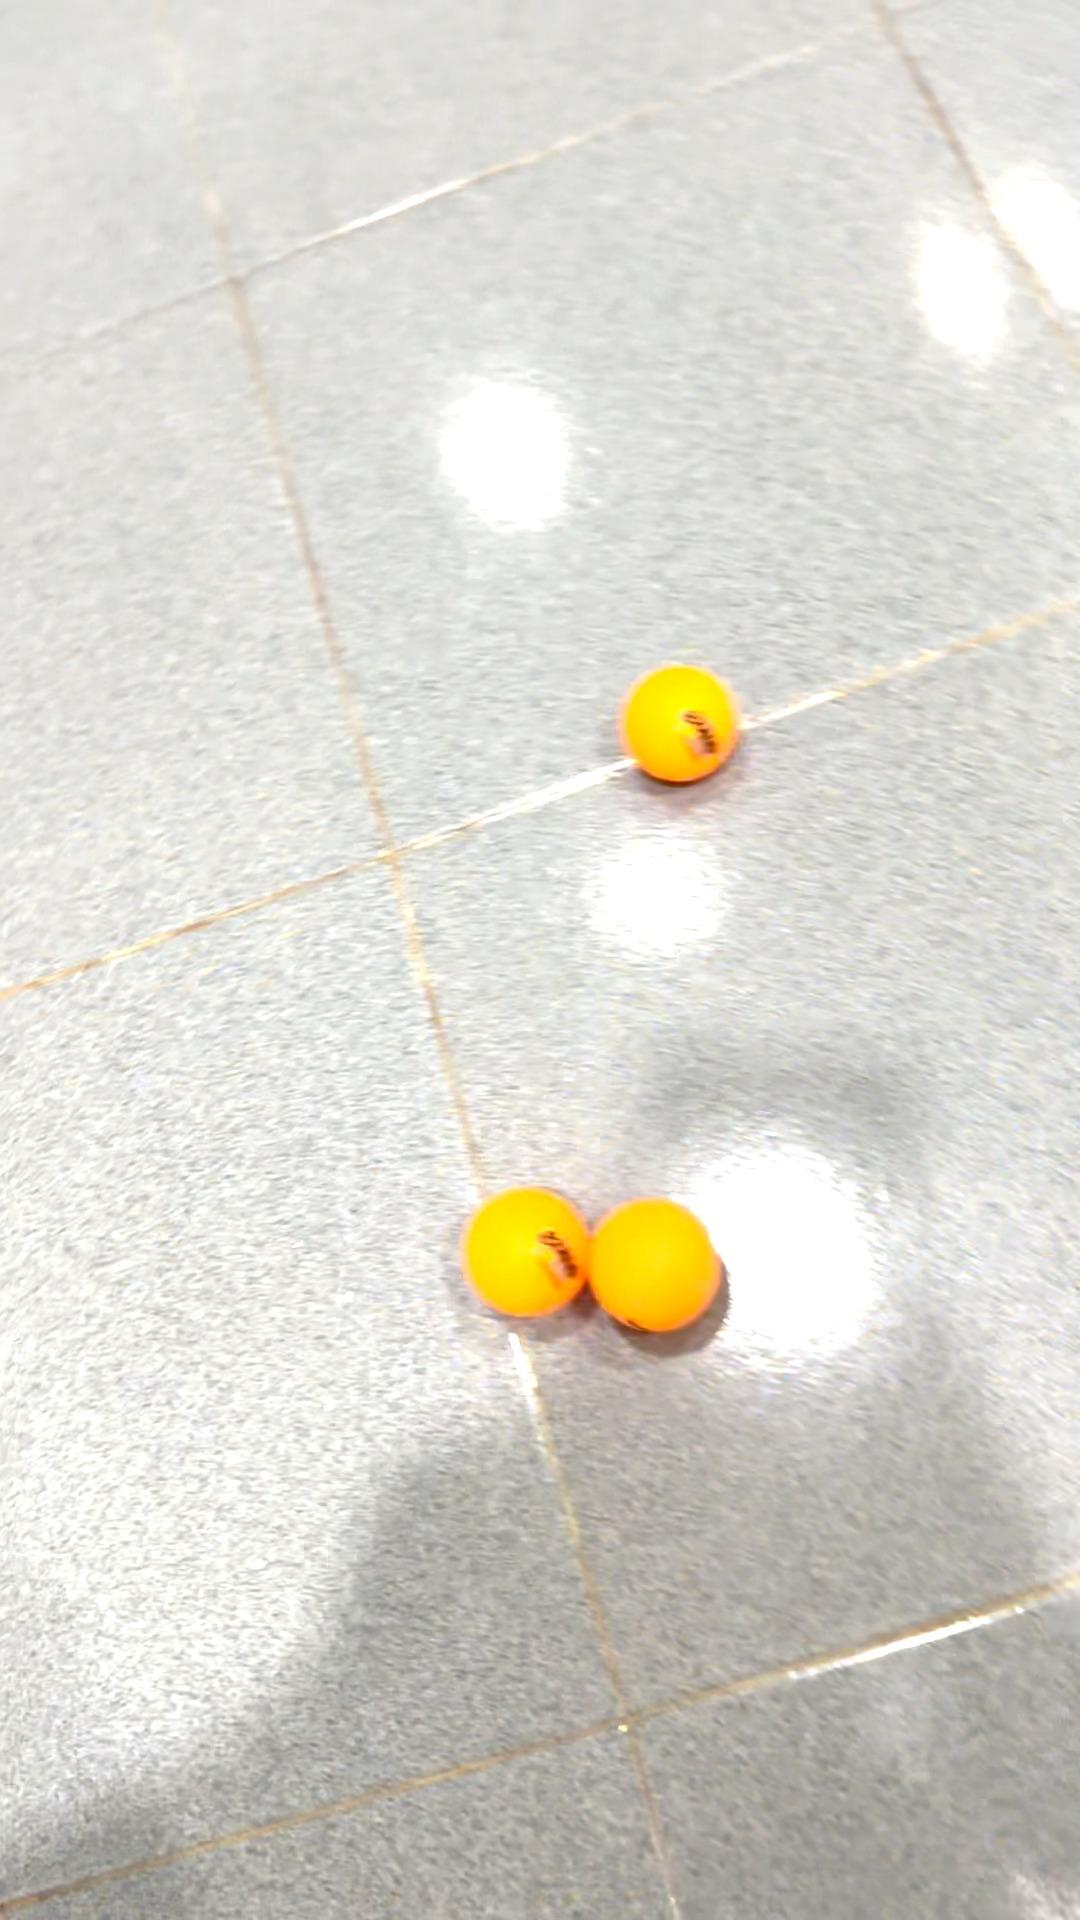oball: (452, 1180, 588, 1328), (591, 1204, 728, 1340), (615, 667, 750, 795)
